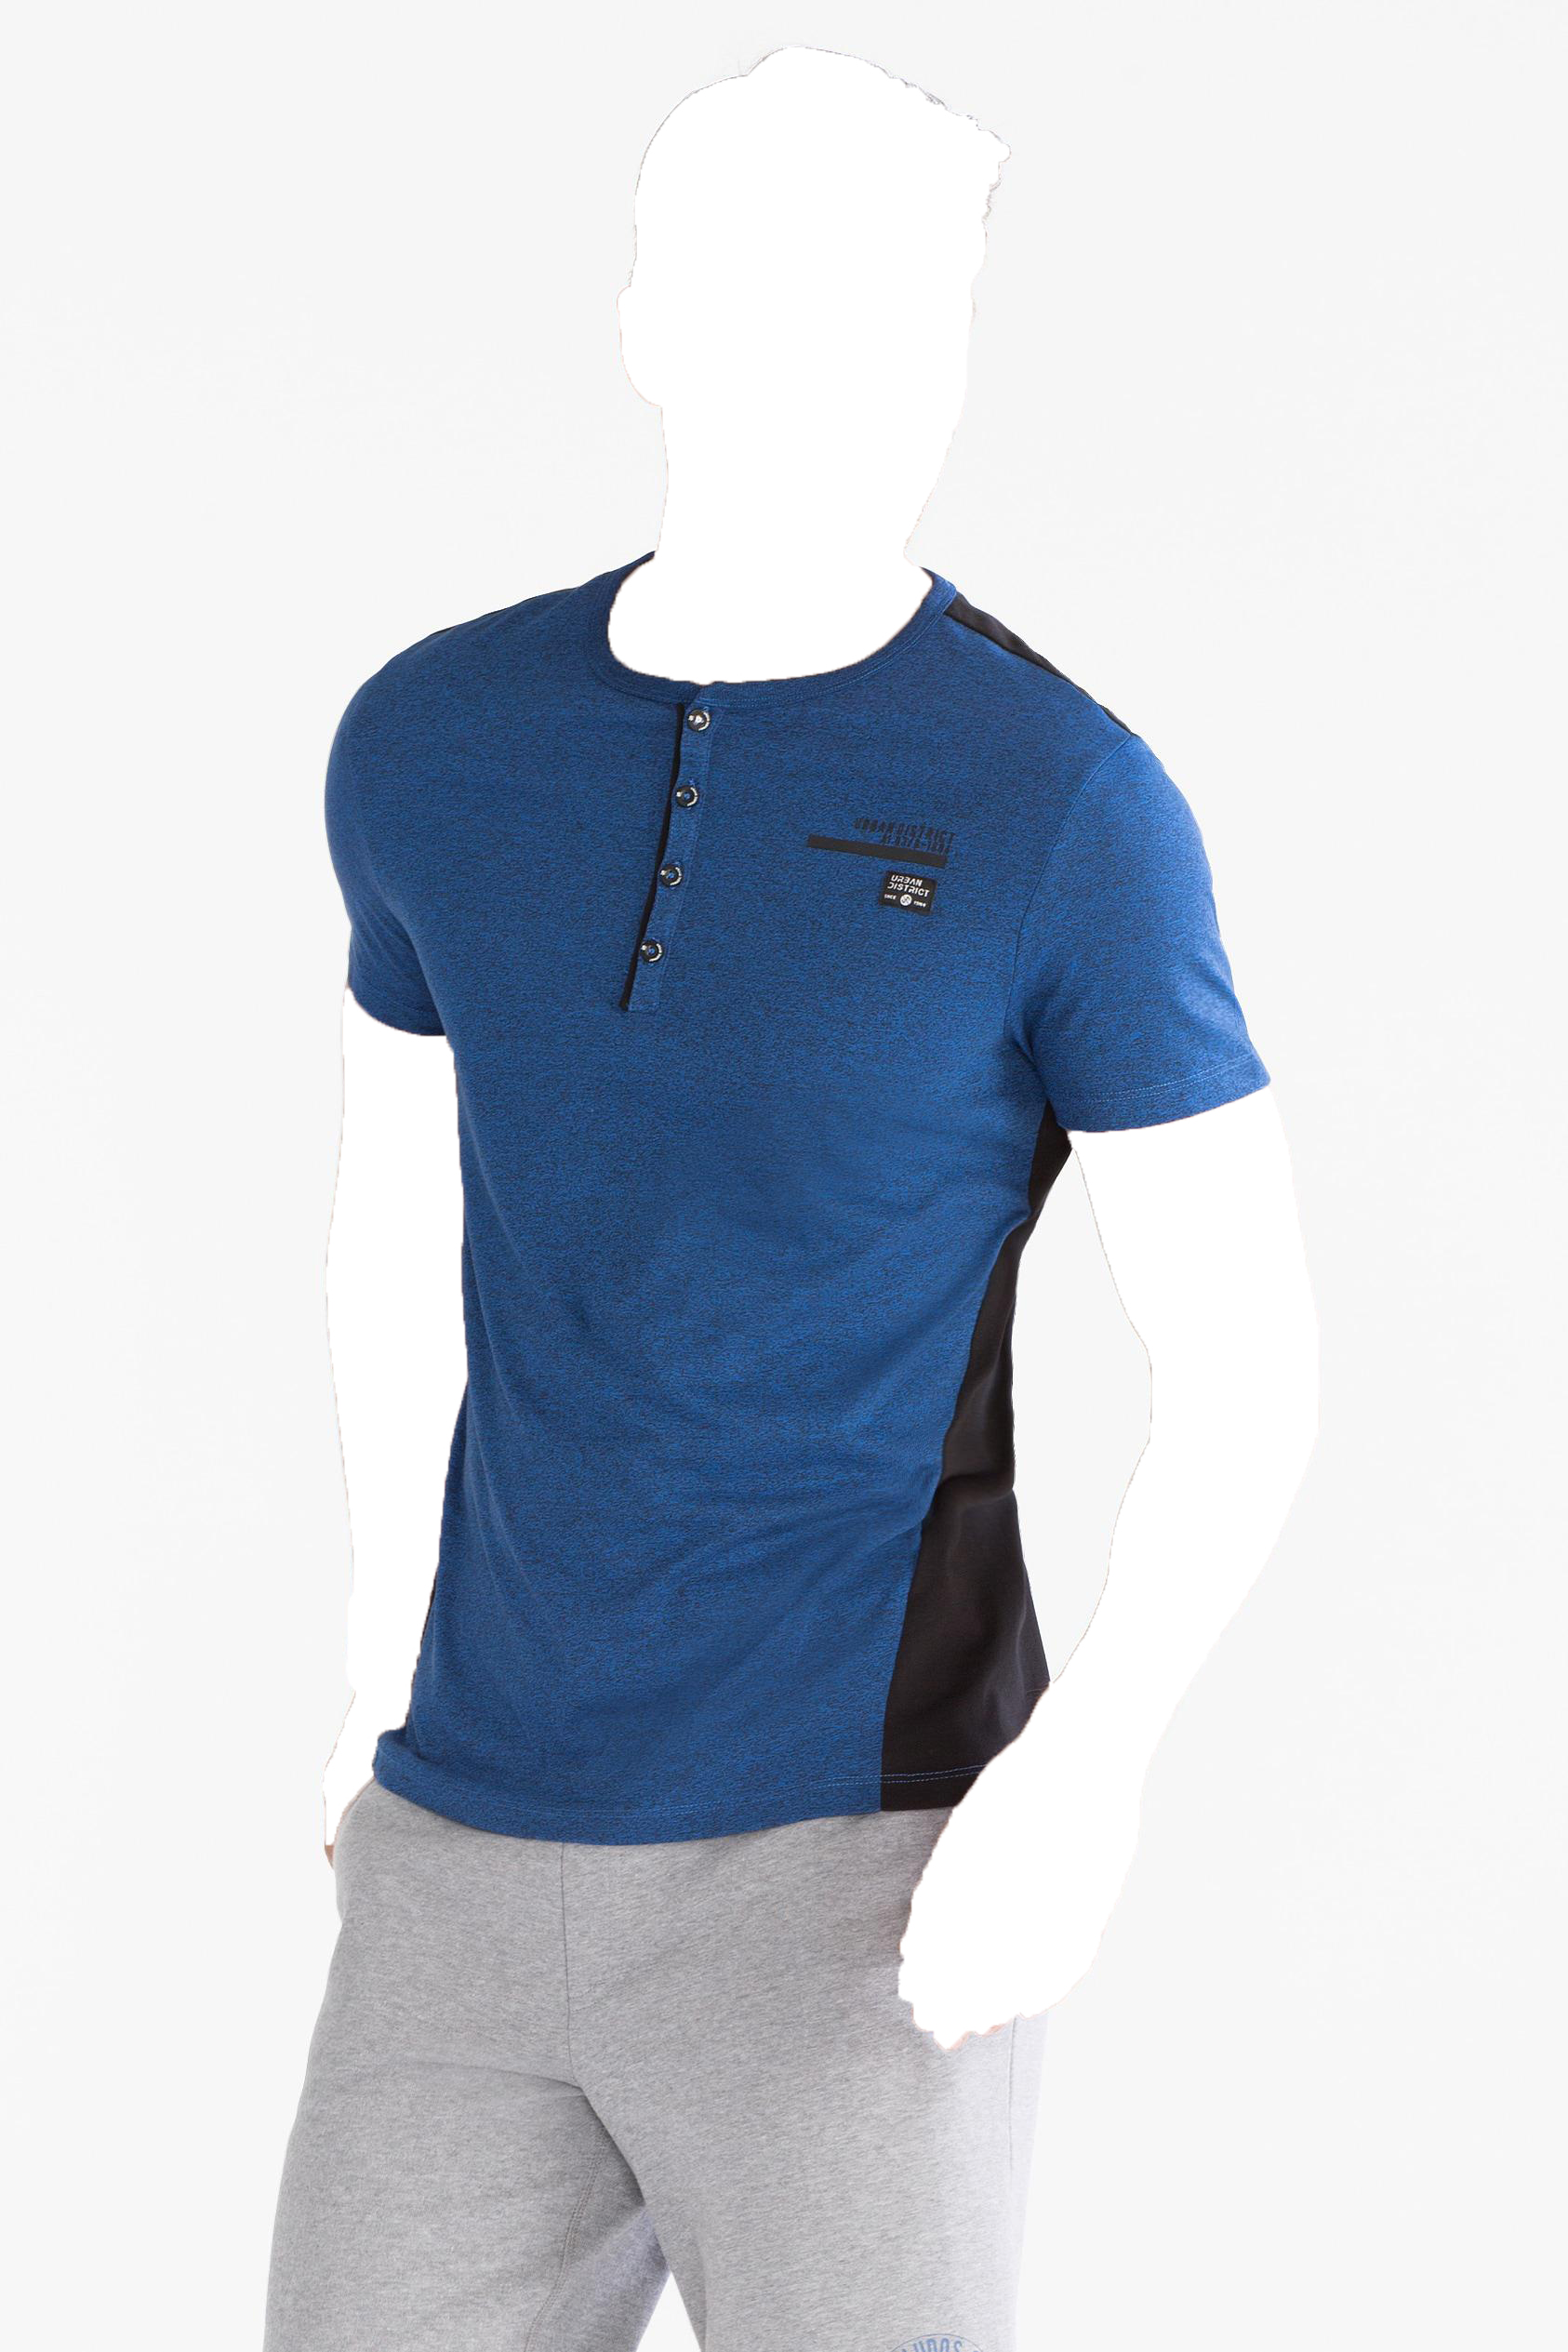teeshirt: (306, 546, 1283, 1852)
